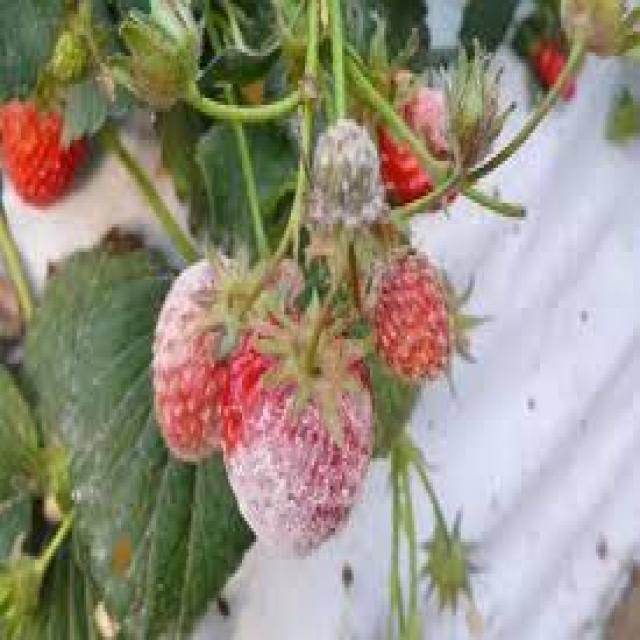Oído: (210, 326, 384, 576), (127, 234, 269, 470), (362, 224, 477, 406), (291, 74, 399, 254), (383, 40, 482, 233)
